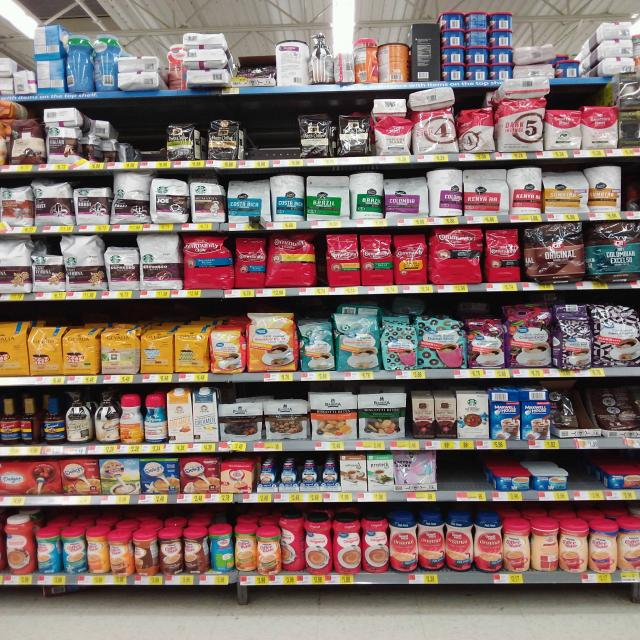100- O.O.S: (243, 125, 299, 166), (438, 451, 484, 500), (132, 124, 166, 168), (569, 453, 598, 500)
